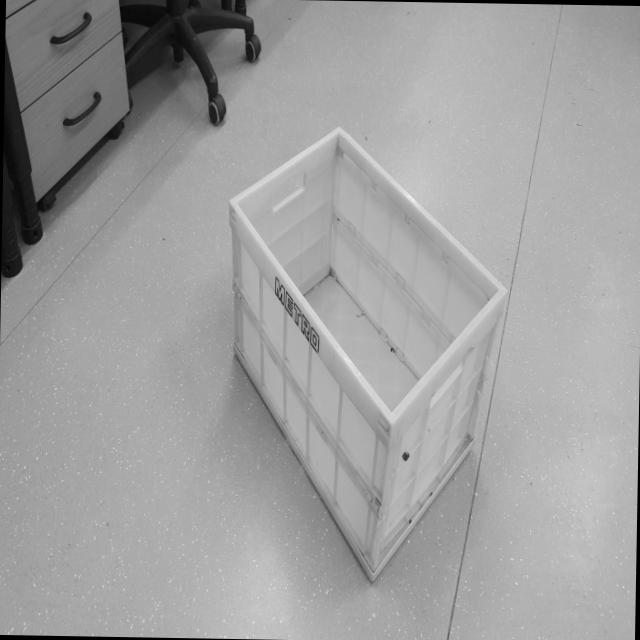box: (215, 113, 512, 600)
